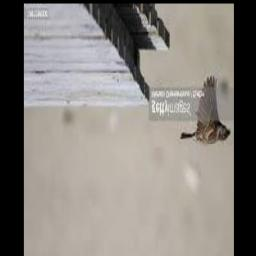Sparrow: (180, 77, 231, 143)
